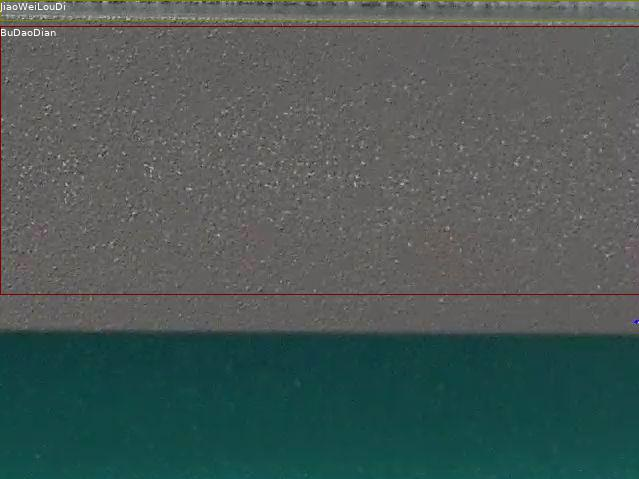BuDaoDian: (0, 26, 639, 294)
JiaoWeiLouDi: (0, 0, 639, 20)
